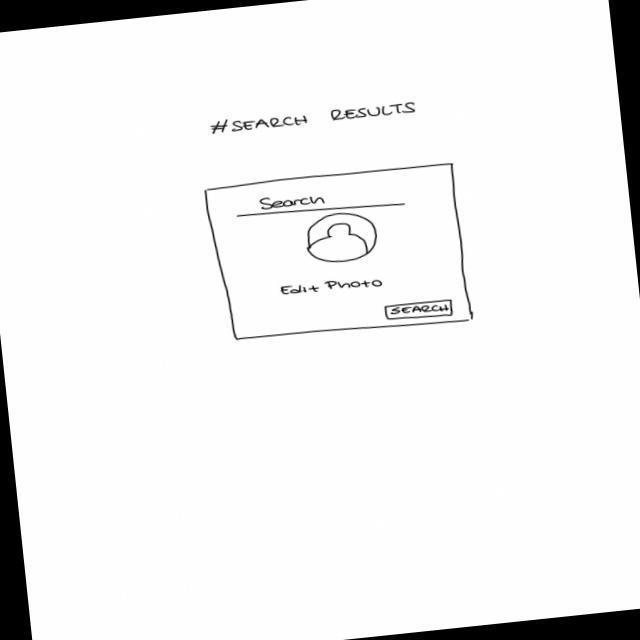button: (383, 297, 457, 324)
container: (203, 159, 476, 348)
image: (303, 209, 382, 267)
input: (233, 181, 406, 225)
label: (206, 97, 422, 138), (277, 273, 389, 301)
